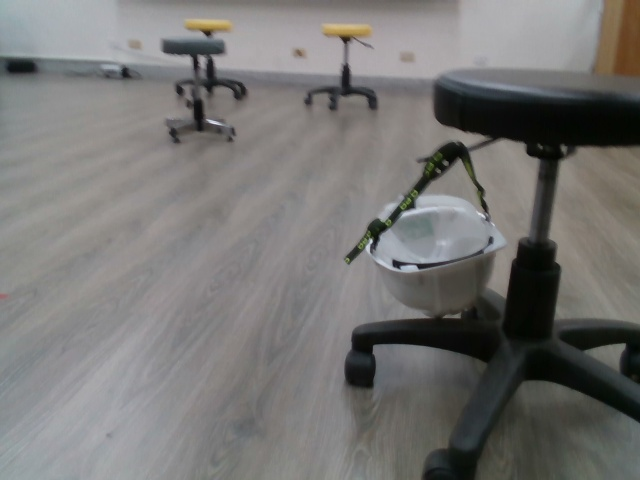helmet: (363, 193, 507, 316)
